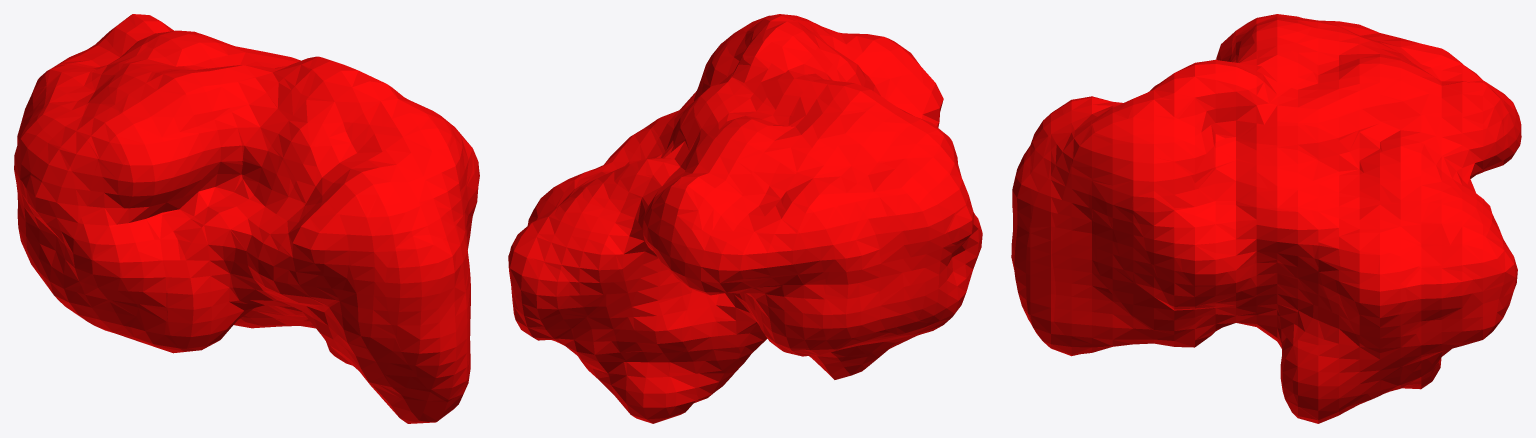
File: preT_coarse.dae
3 renders of one model, left to right at view 1: azimuth 30°, elevation 25°; view 2: azimuth 150°, elevation 25°; view 3: azimuth 270°, elevation 25°, orthographic. The views are drawn at different scales.
Visible parts, largest first — view 1: preT; view 2: preT; view 3: preT.
Boxes of the visible parts, left/top/right/bottom form: preT: left=14, top=14, right=479, bottom=423; preT: left=508, top=14, right=982, bottom=423; preT: left=1011, top=14, right=1521, bottom=423.
Bounding box in the file's own units: 63.09 × 49.09 × 72.47.
